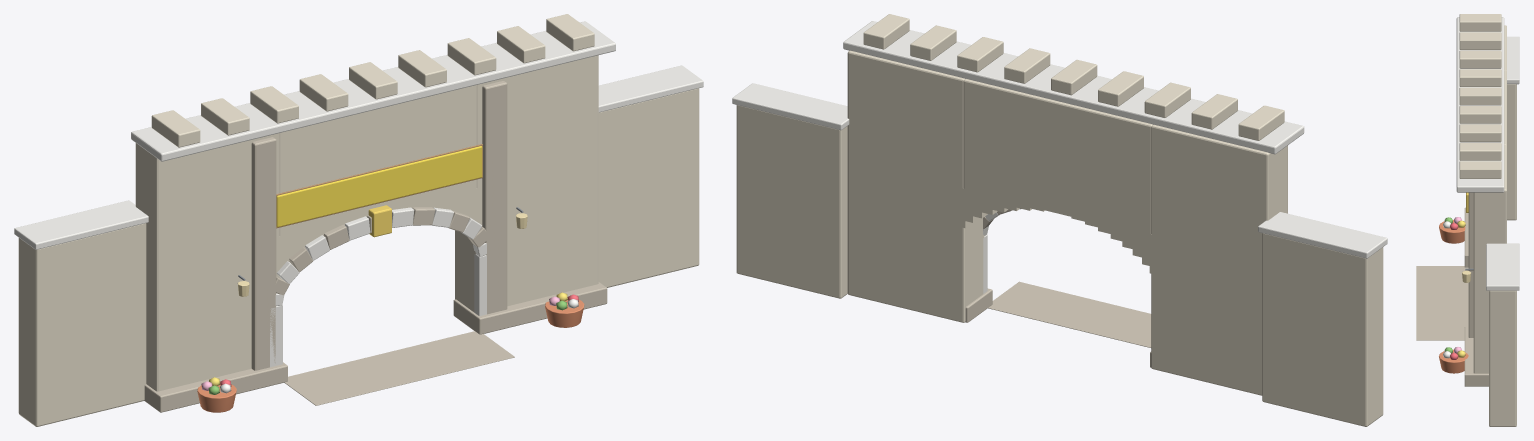
The model's file is tunnel_portal.fbx.
The picture shows the model from 3 angles, left to right: view 1: azimuth 30°, elevation 25°; view 2: azimuth 150°, elevation 25°; view 3: azimuth 270°, elevation 25°; orthographic projection. The views are drawn at different scales.
Parts seen in each view (by area): view 1: Visual; view 2: Visual; view 3: Visual.
Boxes of the visible parts, bbox=[...] form: Visual: bbox=[14, 14, 703, 426]; Visual: bbox=[732, 14, 1387, 426]; Visual: bbox=[1416, 14, 1519, 426].
Size of what is drawn, in the model's own units: 4230 by 1675 by 740.
